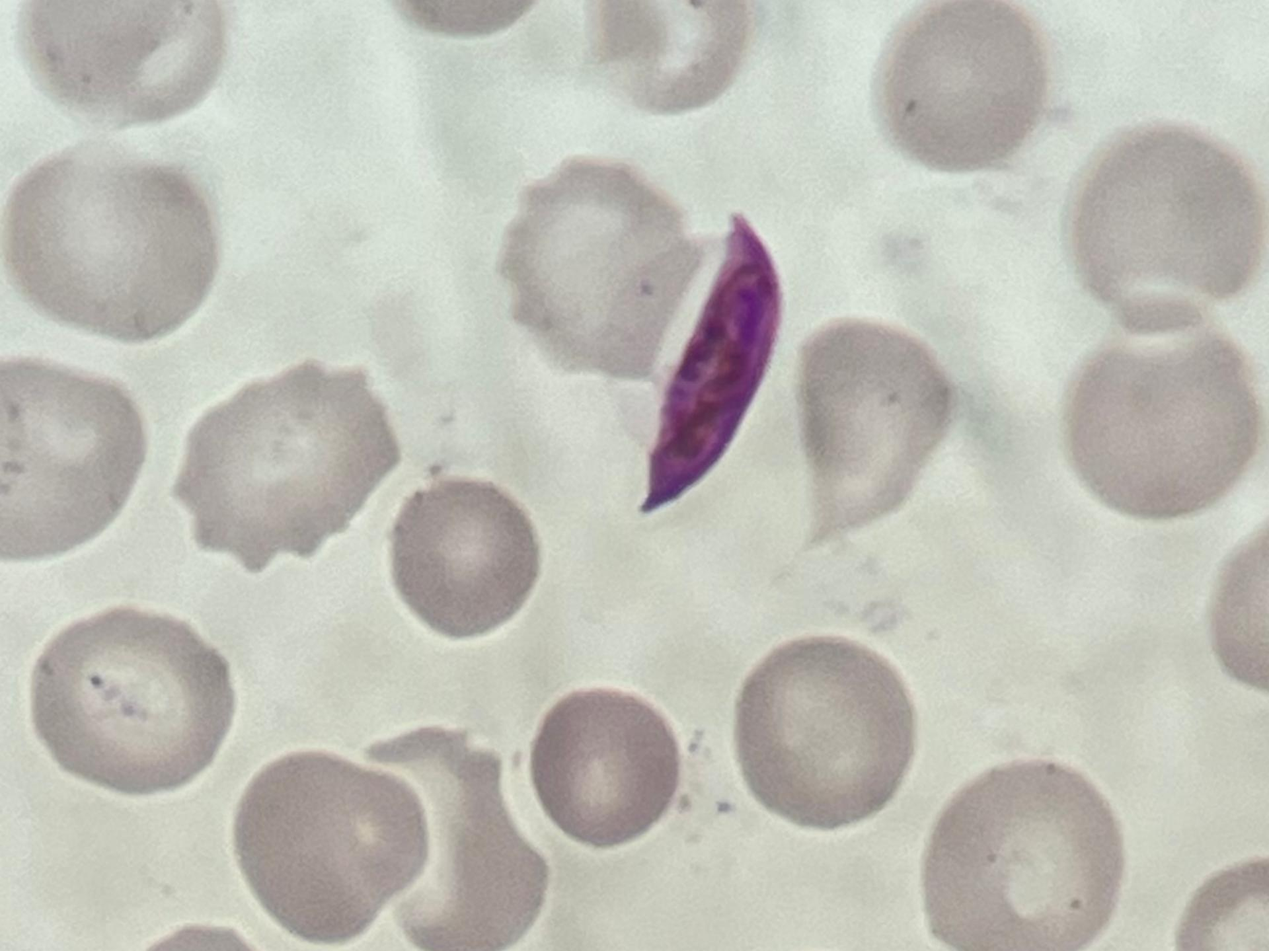Infected: (608, 210, 783, 516)
Uninfected: (165, 361, 399, 574), (1061, 296, 1269, 521), (496, 152, 686, 381), (1064, 123, 1264, 329), (370, 721, 549, 951), (5, 152, 218, 345), (233, 750, 430, 948), (924, 760, 1126, 951), (793, 318, 956, 553), (30, 608, 235, 792), (734, 635, 917, 831), (0, 362, 148, 568), (872, 0, 1042, 169), (15, 0, 227, 127), (527, 688, 677, 847), (390, 481, 539, 641)
